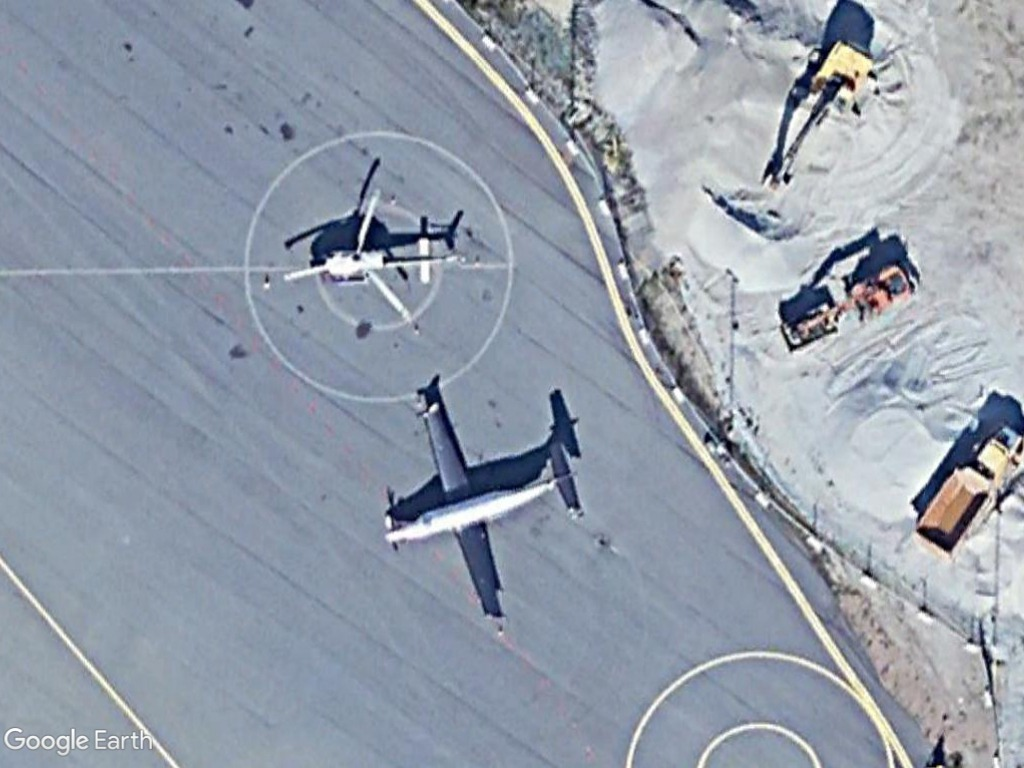helicopter: (268, 187, 480, 338)
trainer: (359, 395, 589, 631)
